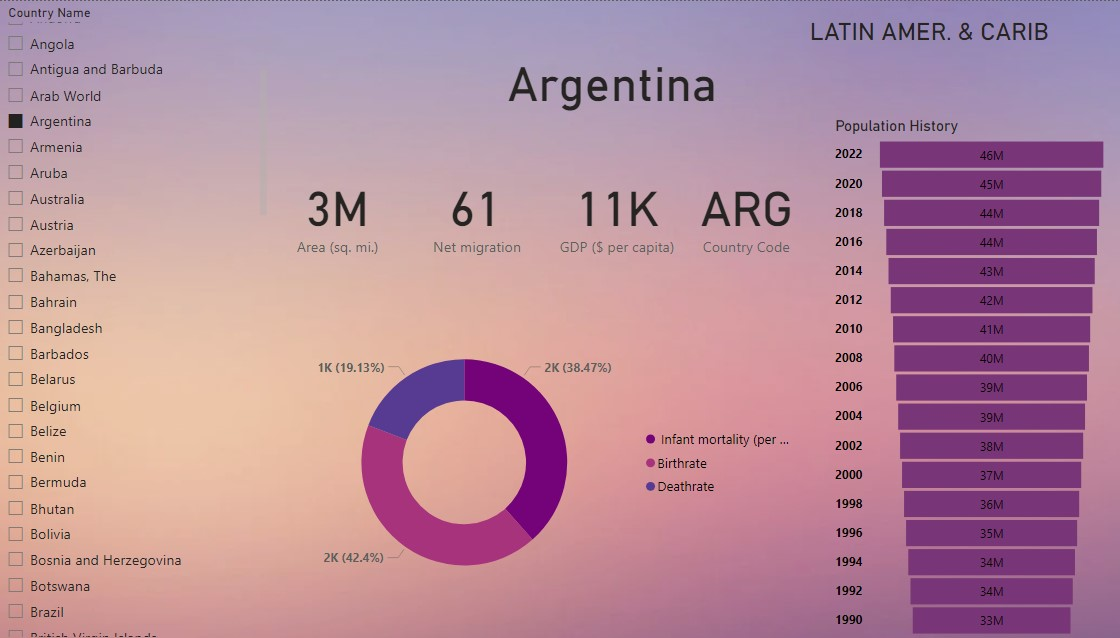

Layout of this report page (visuals, bound fields, positions):
{"tool":"powerbi","page":{"name":"Page 1","canvas":[1238,720],"ordinal":0},"visuals":[{"type":"slicer","fields":{"Values":["cleaned_population_data.Country Name"]},"box":[0,0,332.4,719],"z":0},{"type":"card","fields":{"Values":["Sum(countries of the world.Area (sq. mi.))"]},"box":[307.9,192.6,172.3,100.4],"z":1000},{"type":"donutChart","fields":{"Y":["Sum(countries of the world.Infant mortality (per 1000 births))","Sum(countries of the world.Birthrate)","Sum(countries of the world.Deathrate)"]},"box":[294.4,359.5,480.2,309.3],"z":2000},{"type":"card","fields":{"Values":["Min(countries of the world.Country Name)"]},"box":[332.4,97.7,826.2,65.1],"z":3000},{"type":"card","fields":{"Values":["Sum(countries of the world.Net migration)"]},"box":[668.8,192.6,153.3,100.4],"z":4000},{"type":"card","fields":{"Values":["Sum(countries of the world.GDP ($ per capita))"]},"box":[504.6,192.6,153.3,100.4],"z":5000},{"type":"card","fields":{"Values":["Min(countries of the world.Region)"]},"box":[847.9,0,390.7,80],"z":6000},{"type":"card","fields":{"Values":["Min(cleaned_population_data.Country Code)"]},"box":[1043.2,192.6,150.6,100.4],"z":7000},{"type":"funnel","title":"Population History","fields":{"Y":["Sum(cleaned_population_data.2022)","Sum(cleaned_population_data.2020)","Sum(cleaned_population_data.2018)","Sum(cleaned_population_data.2016)"]},"box":[815.3,359.5,411,358.1],"z":8000},{"type":"card","fields":{"Values":["Sum(countries of the world.Literacy (%))"]},"box":[847.9,192.6,156,100.4],"z":9000}]}

Visuals, with their boxes in screenshot pixels (x1, y1, x2, y2), scaled from the page's 1238x720 canvas onto the 1120x638 screenshot:
slicer - cleaned_population_data.Country Name: <bbox>0, 0, 301, 637</bbox>
card - Sum(countries of the world.Area (sq. mi.)): <bbox>279, 171, 434, 260</bbox>
donutChart - Sum(countries of the world.Infant mortality (per 1000 births)) x Sum(countries of the world.Birthrate): <bbox>266, 319, 701, 593</bbox>
card - Min(countries of the world.Country Name): <bbox>301, 87, 1048, 144</bbox>
card - Sum(countries of the world.Net migration): <bbox>605, 171, 744, 260</bbox>
card - Sum(countries of the world.GDP ($ per capita)): <bbox>457, 171, 595, 260</bbox>
card - Min(countries of the world.Region): <bbox>767, 0, 1119, 71</bbox>
card - Min(cleaned_population_data.Country Code): <bbox>944, 171, 1080, 260</bbox>
"Population History" funnel: <bbox>738, 319, 1109, 636</bbox>
card - Sum(countries of the world.Literacy (%)): <bbox>767, 171, 908, 260</bbox>
